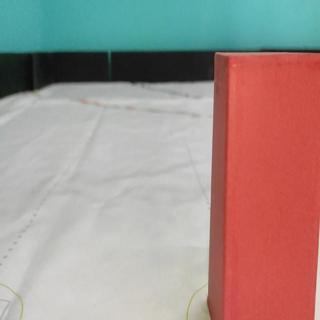redbox: (209, 51, 318, 320)
